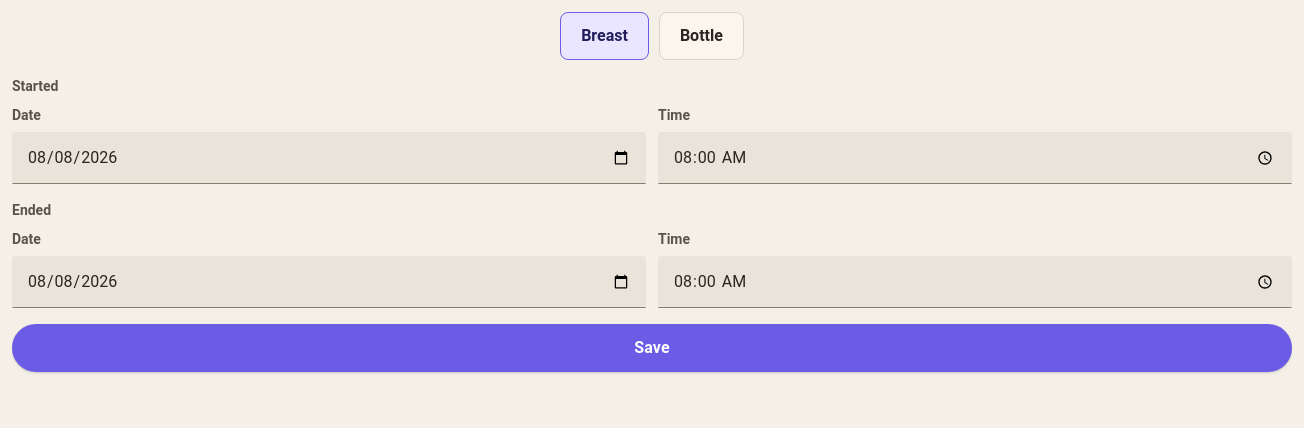
Test case: FeedDiaperBackfillForm breast timing › requires start and end; rejects end before start
This screenshot has width=1304, height=428.
Replace the text in the 1st time field labelled "Time" with "07:00" at (975, 158), box [658,132,1292,184]
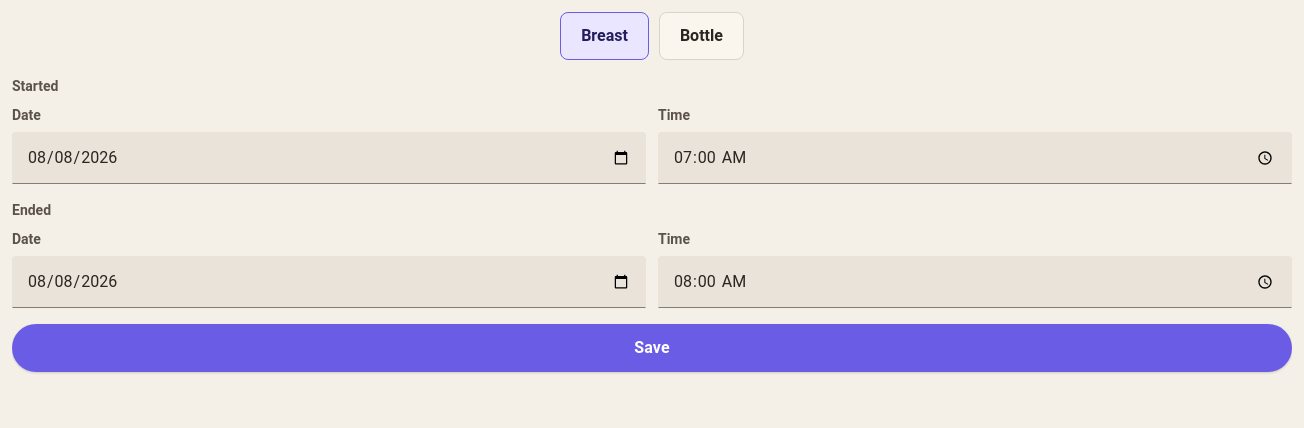
Replace the text in the 2nd time field labelled "Time" with "06:00" at (975, 282), box [658,256,1292,308]
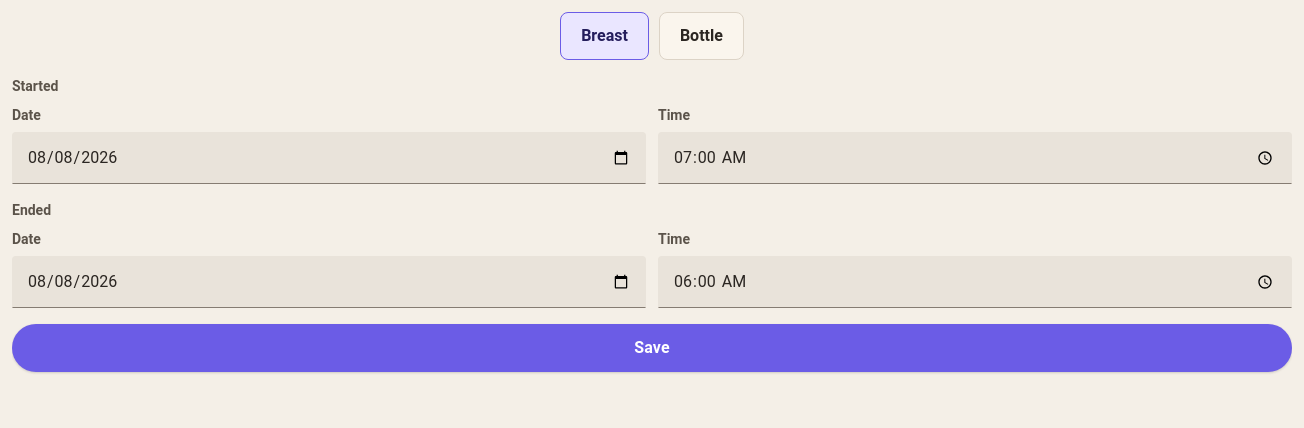
Click the button "Save" at (652, 348), box [12,324,1292,372]
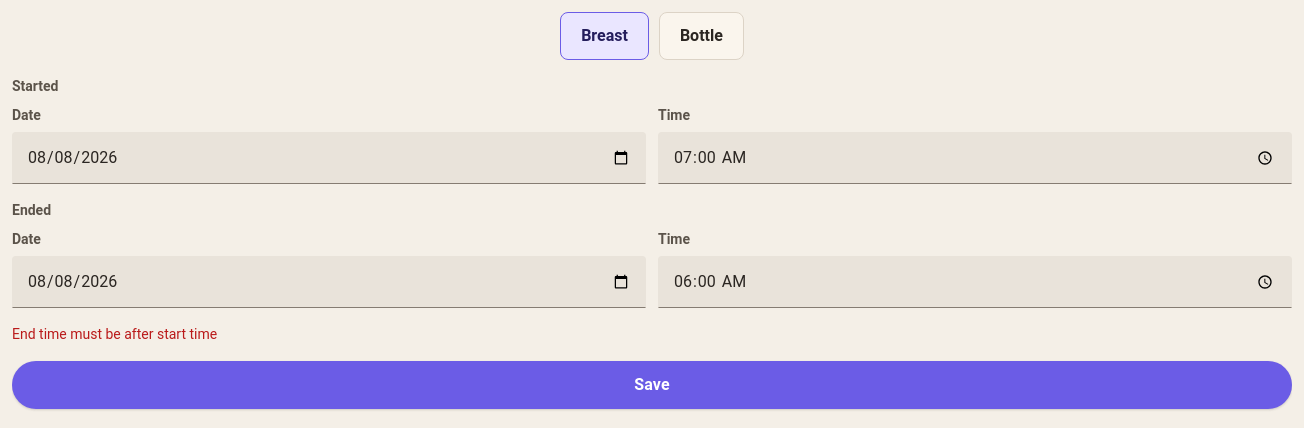
Expected: the message shows "End time must be after", [12,326,217,342]
